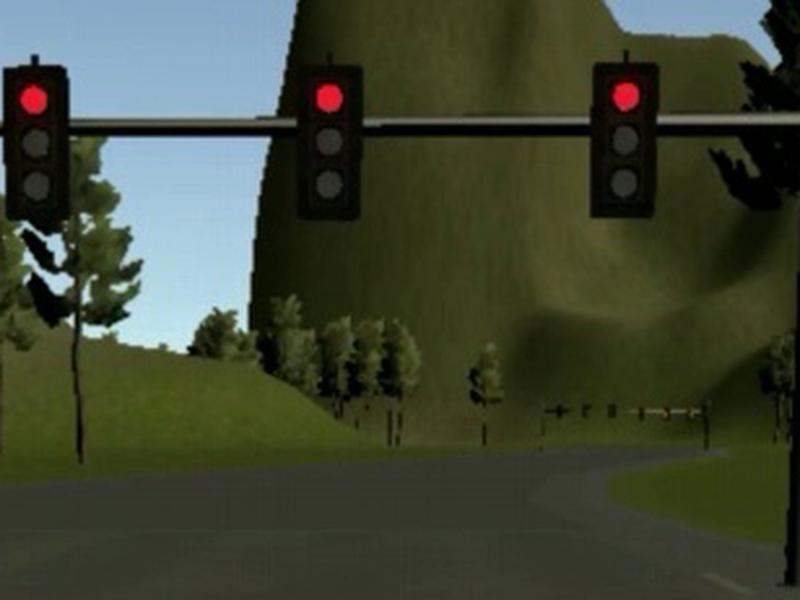Red: (592, 60, 658, 215), (299, 65, 362, 221), (7, 67, 69, 219)
